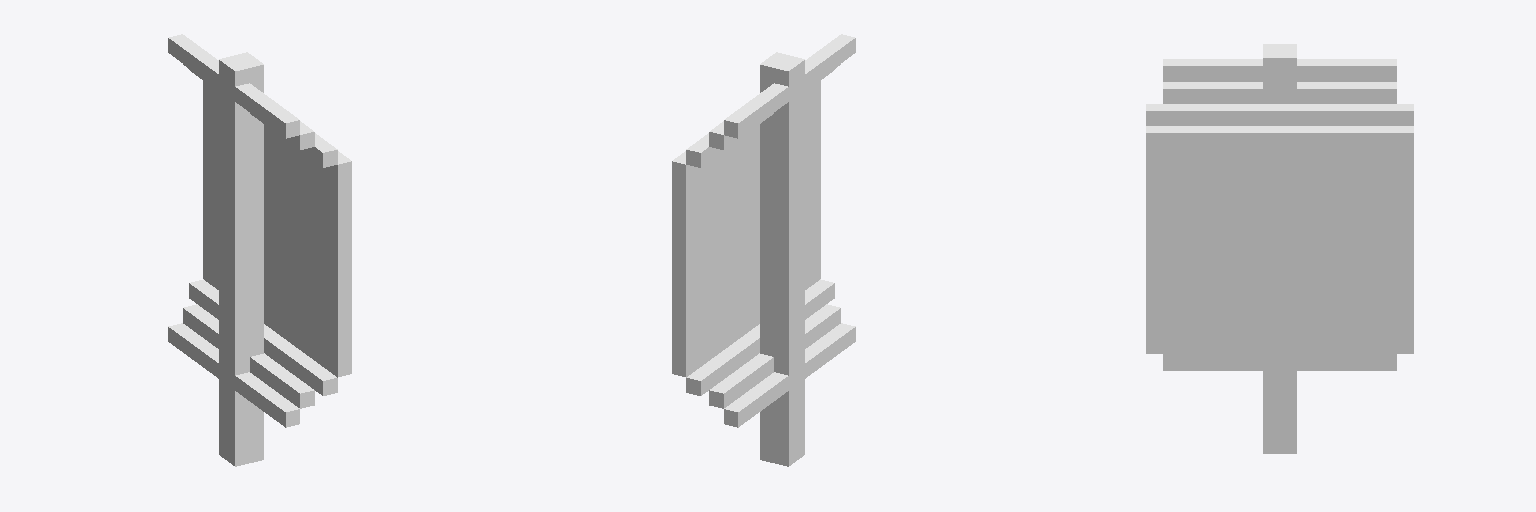
File: obj.sail.obj
The picture shows the model from 3 angles: view 1: azimuth 30°, elevation 25°; view 2: azimuth 150°, elevation 25°; view 3: azimuth 270°, elevation 25°; orthographic projection.
Parts seen in each view (by area): view 1: object 1; view 2: object 1; view 3: object 1.
Boxes of the visible parts, <box> form: object 1: <box>168,34,351,466</box>; object 1: <box>672,34,855,466</box>; object 1: <box>1146,44,1413,453</box>.
Bounding box in the file's own units: 0.4 × 2.6 × 1.6.